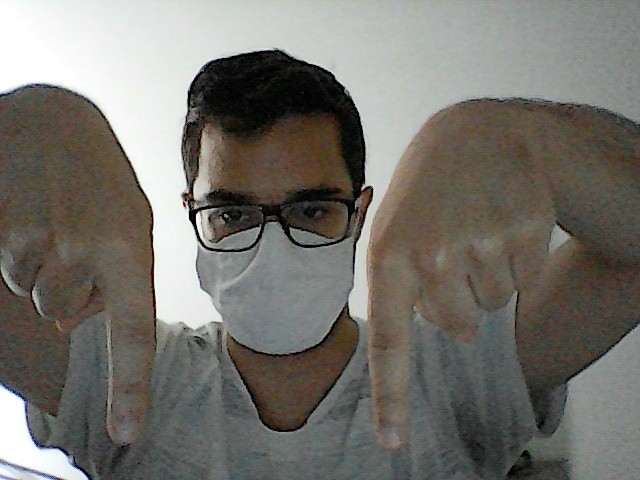down: (358, 84, 562, 459), (1, 58, 163, 455)
